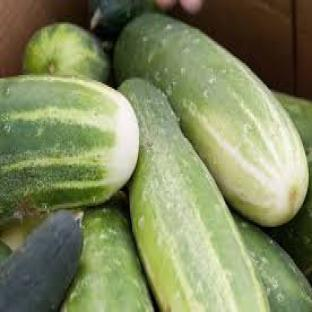Cucumber: (115, 14, 308, 226), (120, 79, 269, 311), (0, 76, 139, 223), (63, 195, 153, 311), (0, 212, 82, 311), (270, 94, 311, 281), (234, 215, 311, 311), (23, 23, 110, 81), (275, 93, 311, 153), (0, 214, 47, 250), (0, 241, 11, 262)
